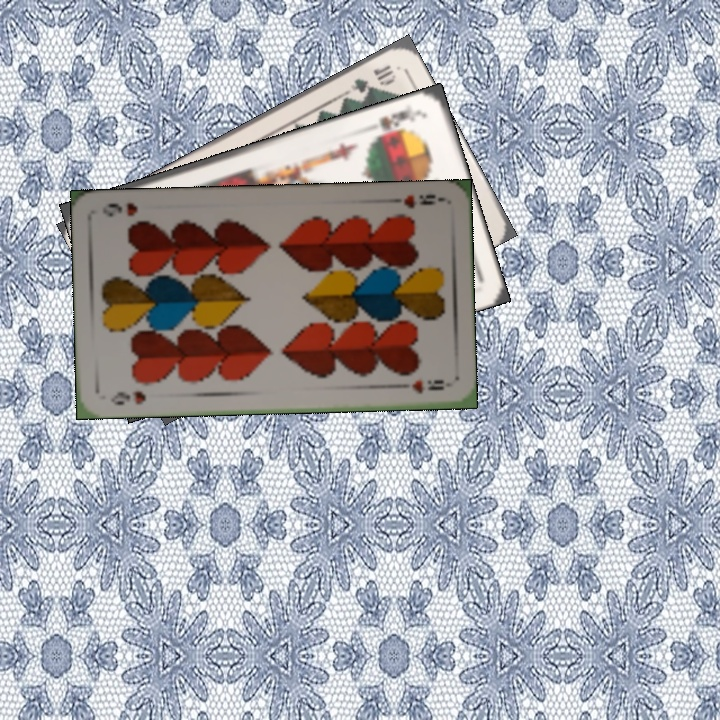G10: (346, 60, 399, 96)
H9: (386, 190, 445, 211), (107, 387, 148, 407)
SK: (368, 106, 423, 140)
